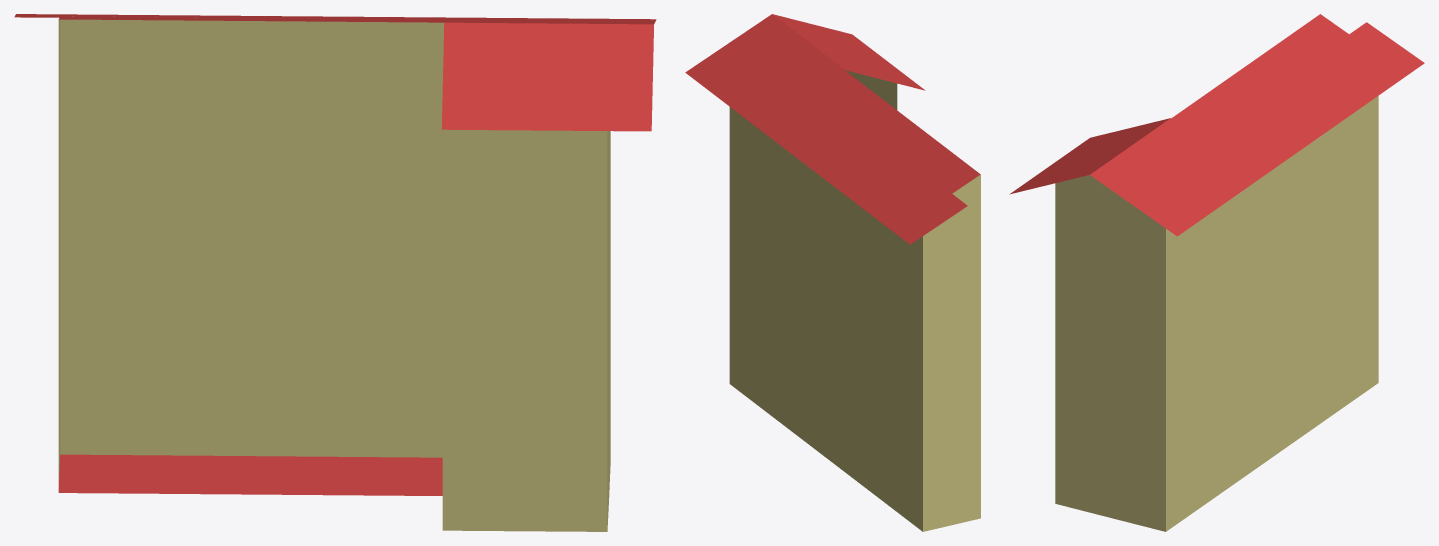
The picture shows the model from 3 angles, left to right: view 1: azimuth 30°, elevation 25°; view 2: azimuth 150°, elevation 25°; view 3: azimuth 270°, elevation 25°; orthographic projection. The views are drawn at different scales.
Size of the model in its own units: 9.91 by 9.25 by 8.69.
